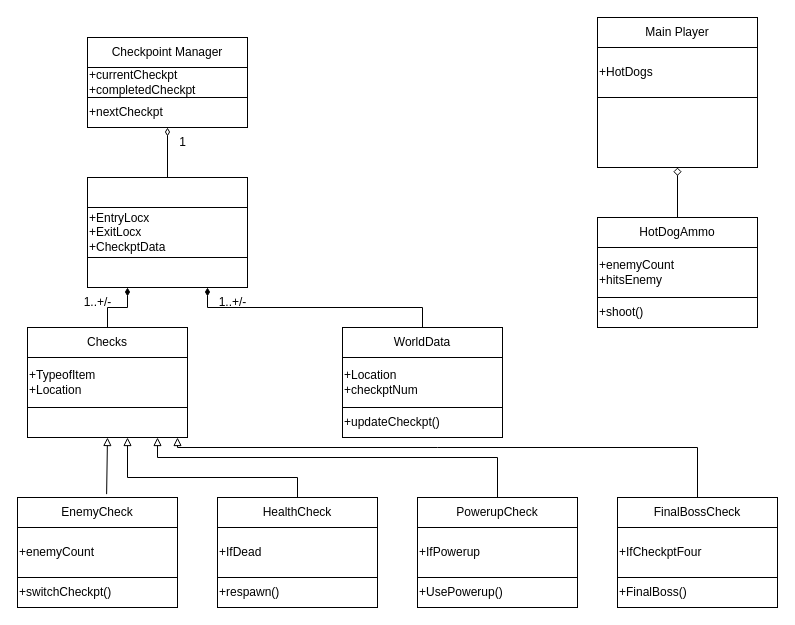
Some shapes in this 795 by 625 pixel diagram are drawn without their labels. The shapes that lost their labels are listed below. From the top down, each one's box as (x1, y1, x2, y2) in pixels, then its label:
(596, 96, 758, 168): -Movement -Death&respawn +collectSpecialItems +shoot ammo
(86, 176, 248, 208): Checkpoint
(86, 256, 248, 288): +Check()
(26, 406, 188, 438): +PerformCheck()
